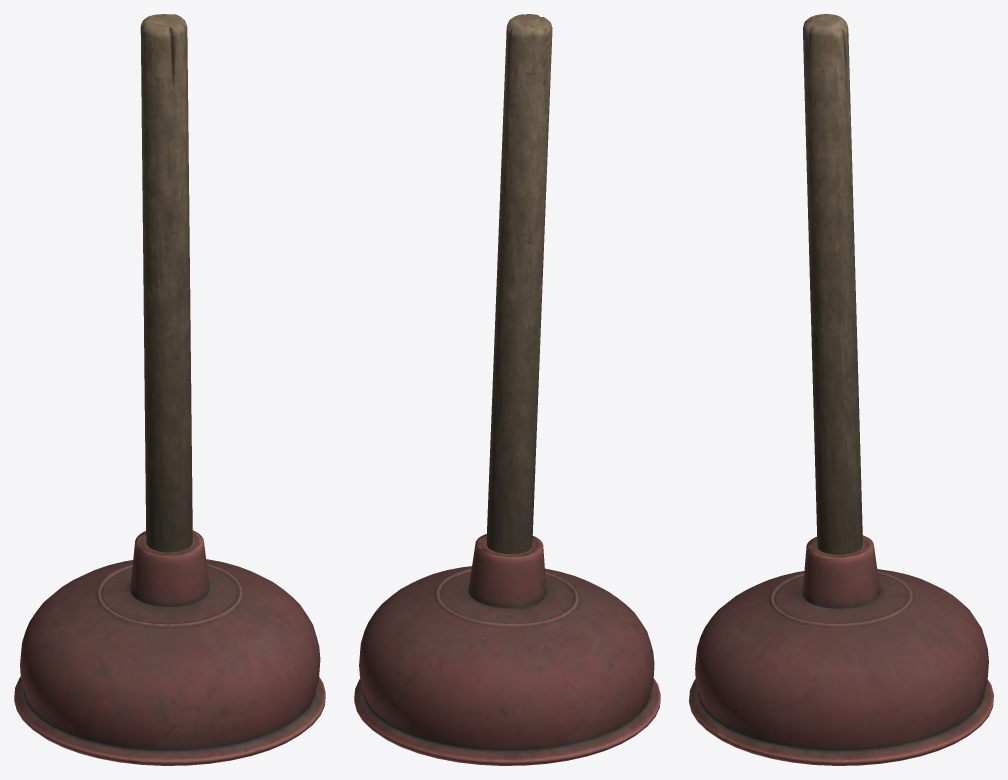
The model's file is plunger.glb.
3 views of the same model, side by side, from view 1: azimuth 30°, elevation 25°; view 2: azimuth 150°, elevation 25°; view 3: azimuth 270°, elevation 25° (orthographic). The views are drawn at different scales.
Parts seen in each view (by area): view 1: plunger; view 2: plunger; view 3: plunger.
Boxes of the visible parts, x1,y1,x2,y2 form: plunger: [14, 14, 325, 765]; plunger: [354, 14, 660, 765]; plunger: [689, 14, 993, 765].
Bounding box in the file's own units: 0.1721 × 0.4211 × 0.1721.
1 material, 1 textured.
